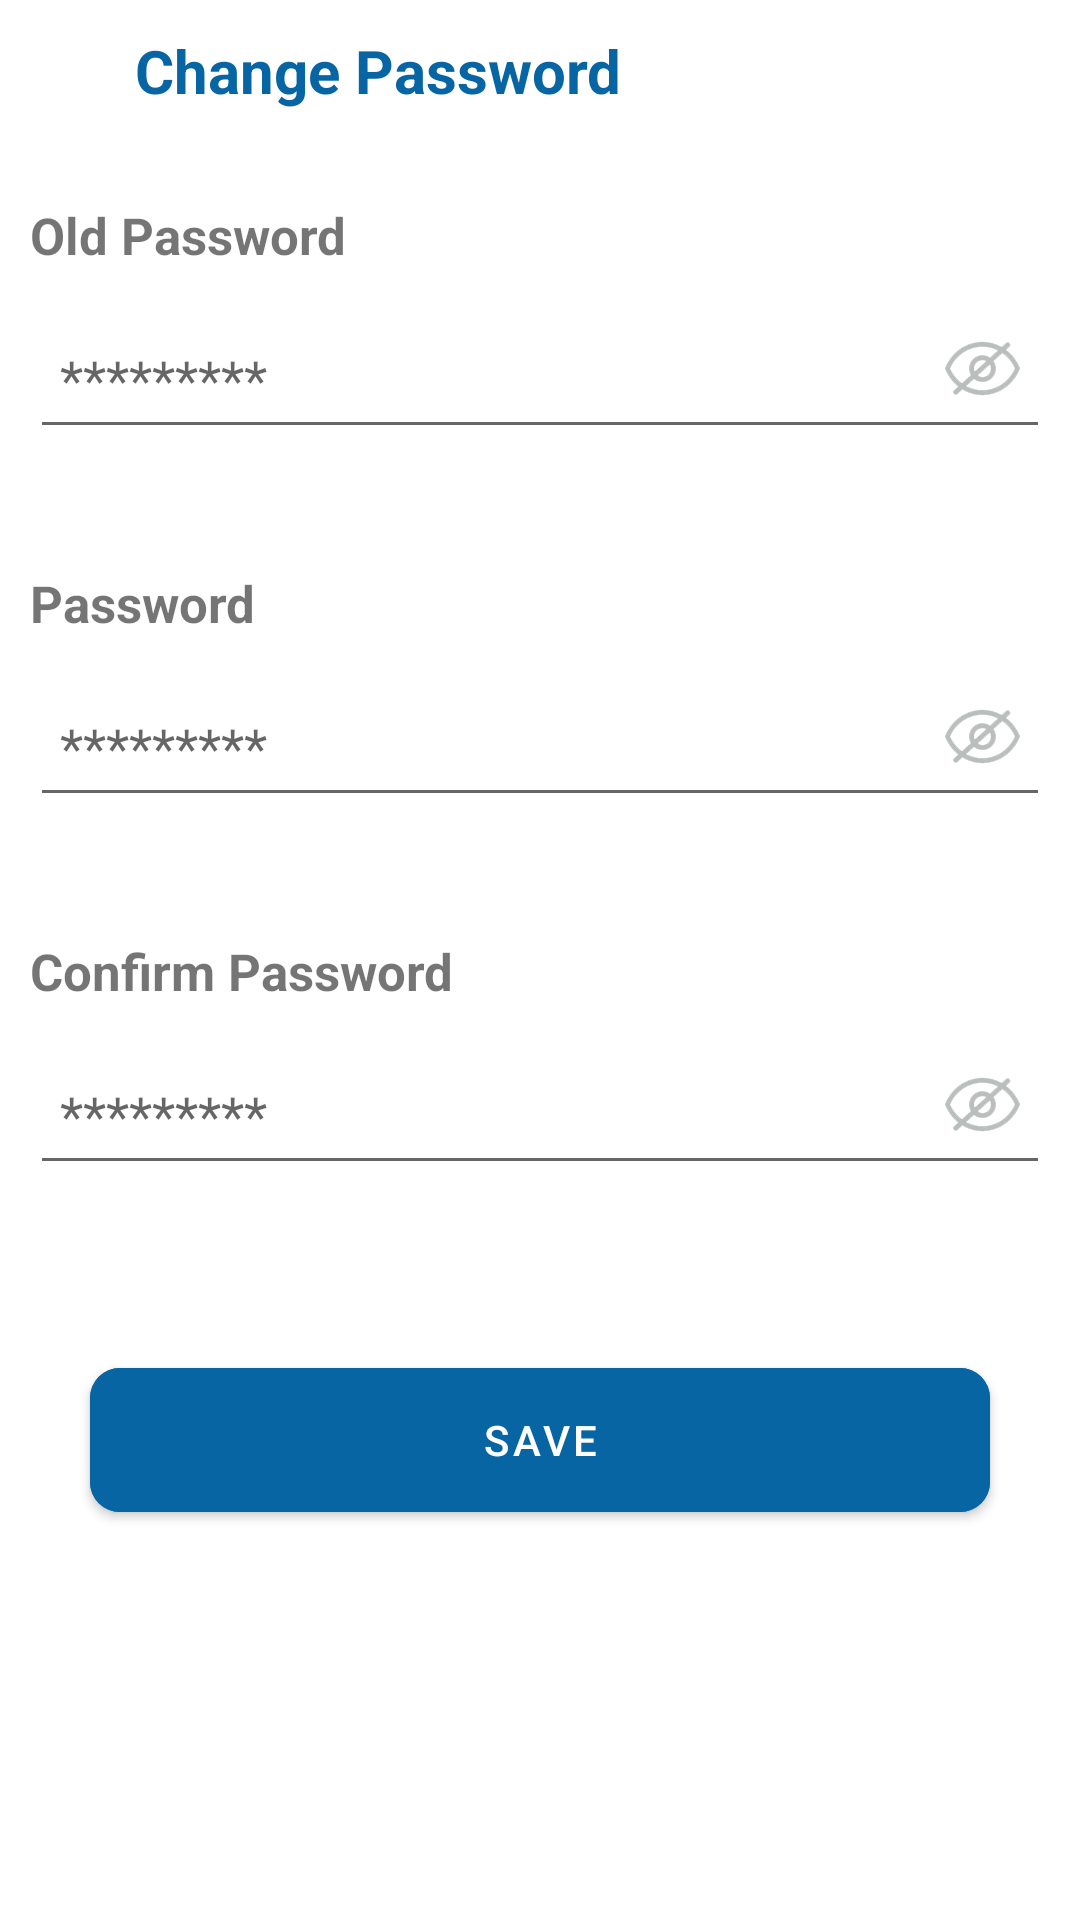

Icon bounding boxes for this 1080px x 1920px phone screenshot, format {"x1": x1, "y1": y1, "x2": x2, "y2": y2}:
view: {"x1": 945, "y1": 342, "x2": 1020, "y2": 395}, {"x1": 945, "y1": 710, "x2": 1020, "y2": 763}, {"x1": 945, "y1": 1078, "x2": 1020, "y2": 1131}
